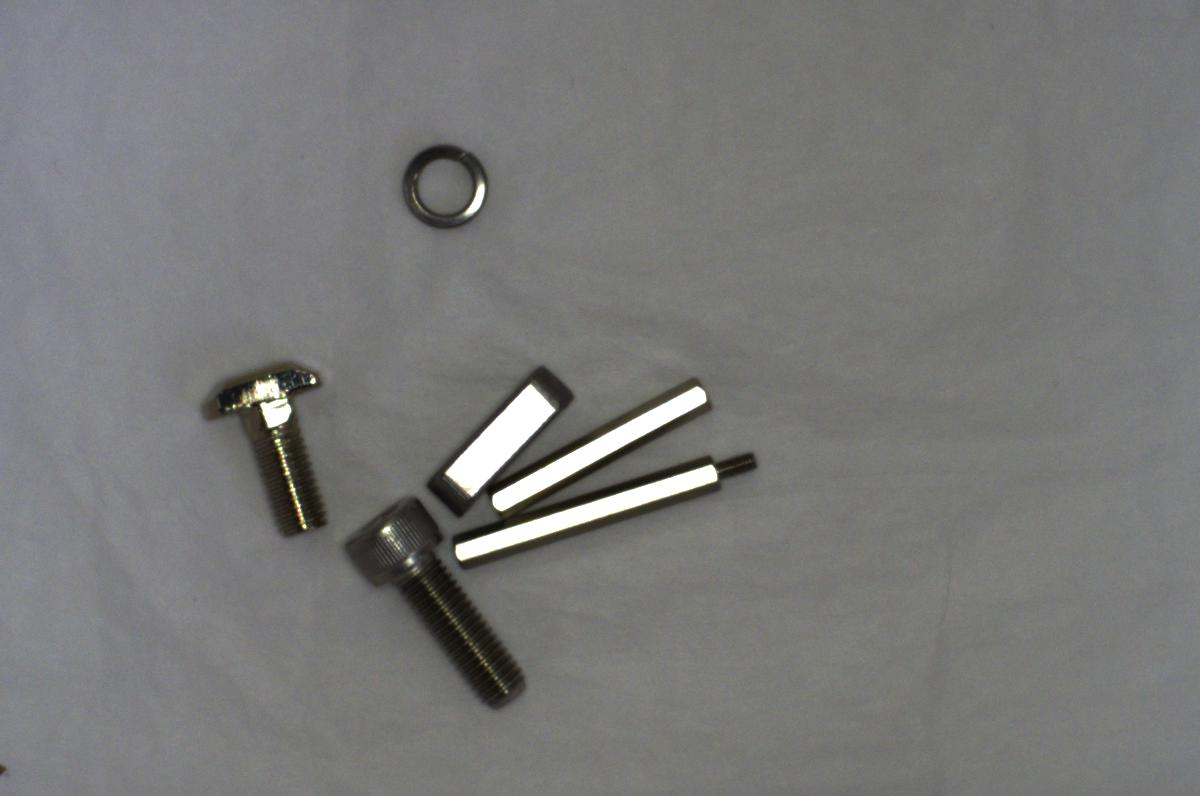Double hexagonal column: (490, 373, 721, 510)
Hexagon screw: (331, 490, 532, 709)
Hexagonal steel column: (451, 448, 765, 568)
Keybar: (424, 353, 574, 514)
Spring washer: (394, 133, 494, 234)
T-shaped screw: (200, 354, 331, 539)
